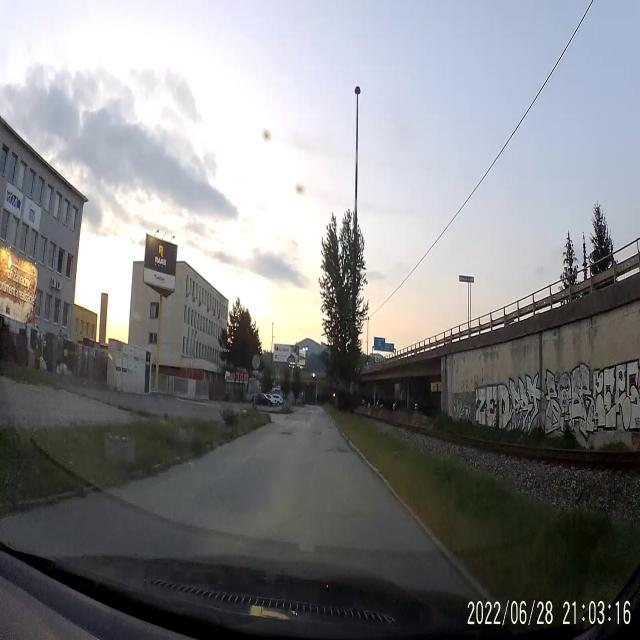Manhole: (278, 428, 292, 437)
Pothole: (317, 430, 322, 436), (327, 426, 332, 430)
